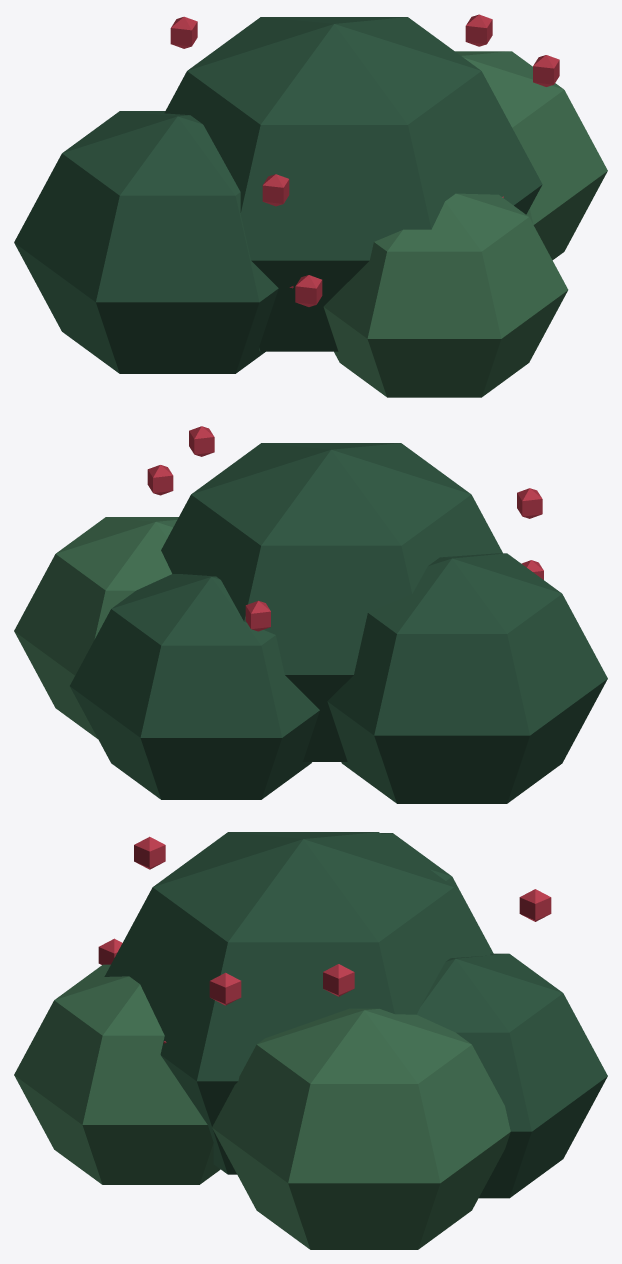
The model's file is nature_bush_c.glb.
The picture shows the model from 3 angles, top to bottom: view 1: azimuth 30°, elevation 25°; view 2: azimuth 150°, elevation 25°; view 3: azimuth 270°, elevation 25°; orthographic projection. The views are drawn at different scales.
Parts seen in each view (by area): view 1: nature_bush_c; view 2: nature_bush_c; view 3: nature_bush_c.
Boxes of the visible parts, x1,y1,x2,y2 form: nature_bush_c: (14, 14, 607, 397); nature_bush_c: (14, 426, 607, 803); nature_bush_c: (14, 832, 607, 1249).
Bounding box in the file's own units: 2.06 × 1.19 × 1.95.
